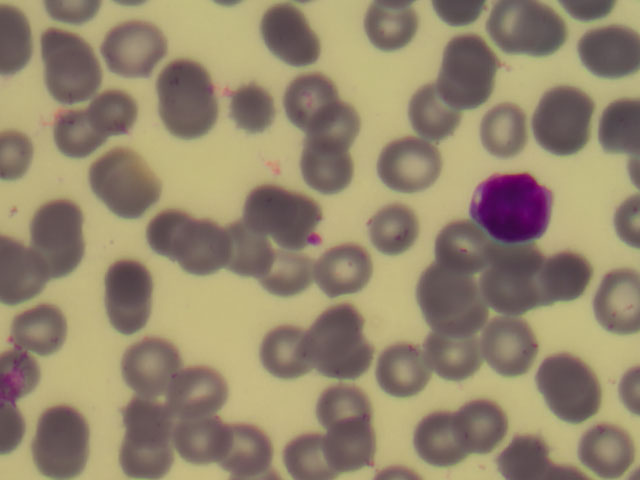RBC: (38, 32, 108, 102), (108, 18, 178, 88), (149, 62, 219, 132), (94, 82, 164, 152), (35, 94, 105, 164), (88, 146, 158, 216), (25, 197, 95, 267), (90, 258, 160, 328), (4, 297, 74, 367), (115, 327, 185, 397), (165, 348, 235, 418), (108, 380, 178, 450), (177, 406, 247, 476), (218, 410, 288, 480), (314, 362, 384, 432), (306, 302, 376, 372), (247, 311, 317, 381), (257, 243, 327, 313), (301, 236, 371, 306), (356, 195, 426, 265), (377, 130, 447, 200), (399, 71, 469, 141), (414, 31, 484, 101), (476, 95, 546, 165), (532, 83, 602, 153), (306, 93, 376, 163), (271, 62, 341, 132), (289, 140, 359, 210), (253, 3, 323, 73), (216, 75, 286, 145), (221, 173, 291, 243), (211, 217, 281, 287), (177, 215, 247, 285), (141, 197, 211, 267), (452, 389, 522, 459), (403, 400, 473, 470), (364, 331, 434, 401), (409, 326, 479, 396), (430, 283, 500, 353), (411, 238, 481, 308), (419, 217, 489, 287), (484, 244, 554, 314), (526, 242, 596, 312), (570, 266, 640, 336), (570, 16, 640, 86), (535, 351, 605, 421), (570, 410, 640, 480), (480, 1, 550, 70)
WBC: (472, 169, 555, 245)
